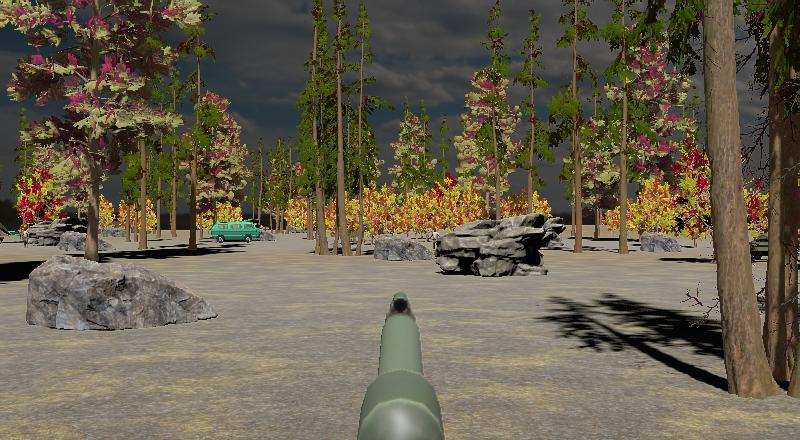car: (210, 221, 262, 244)
